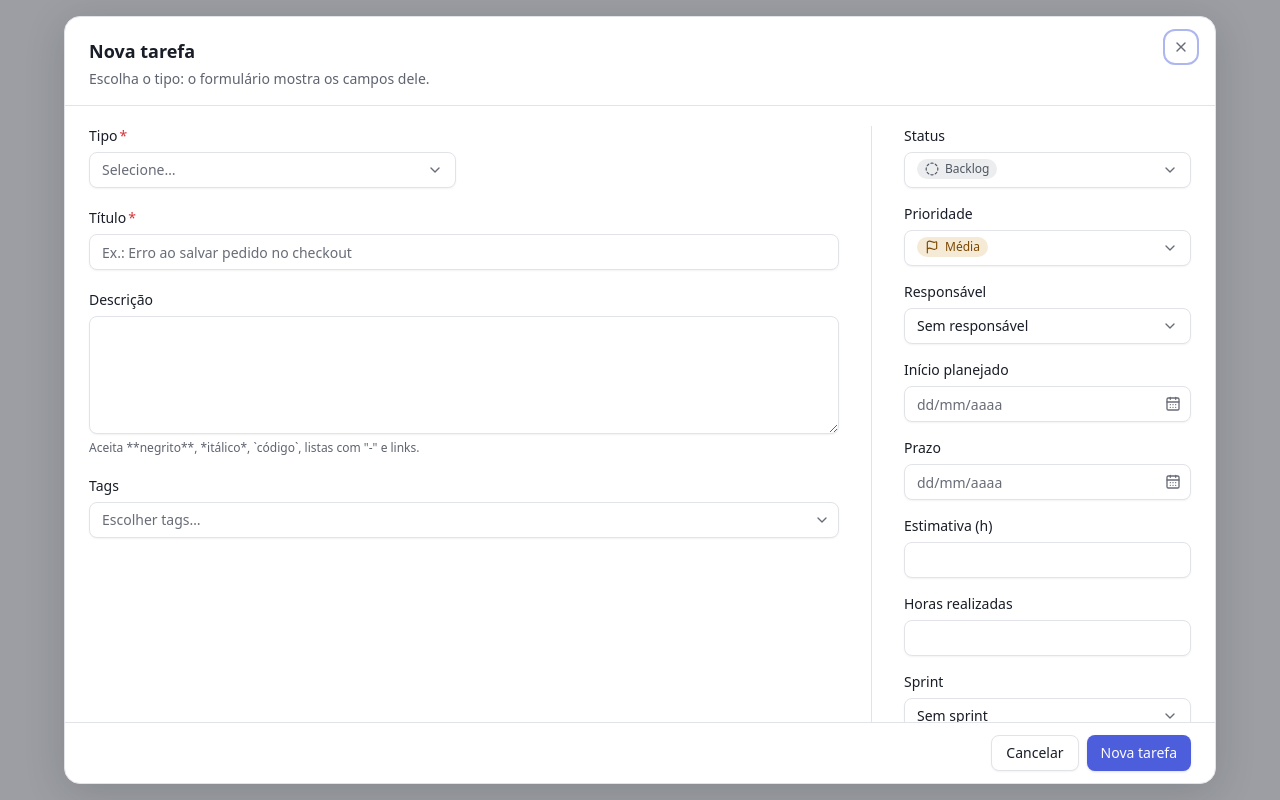
Scenario: TaskFormDialog › valida título e campos obrigatórios do tipo antes de enviar
Step 1. Click the dropdown named "Tipo" → (139, 170), box [89,152,456,188]
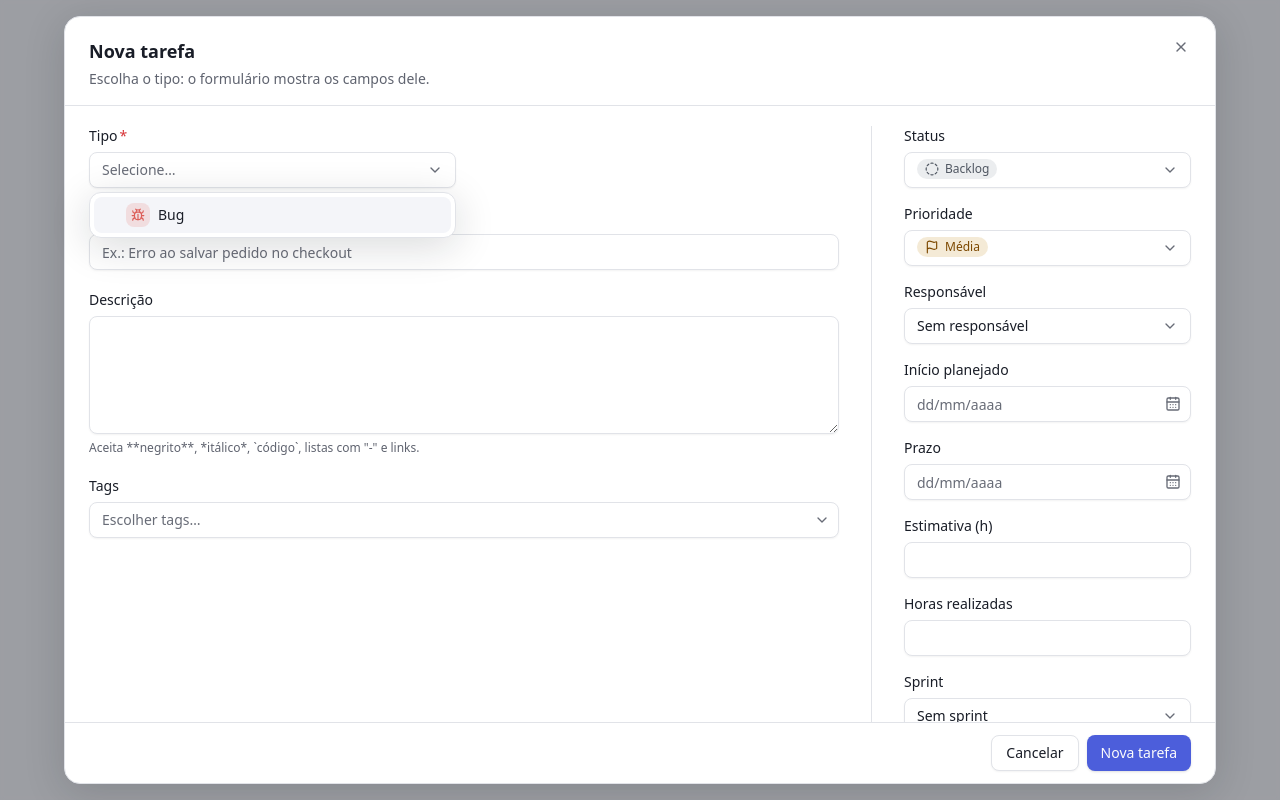
Step 2. Click the option "Bug" → (138, 215), box [94,197,451,233]
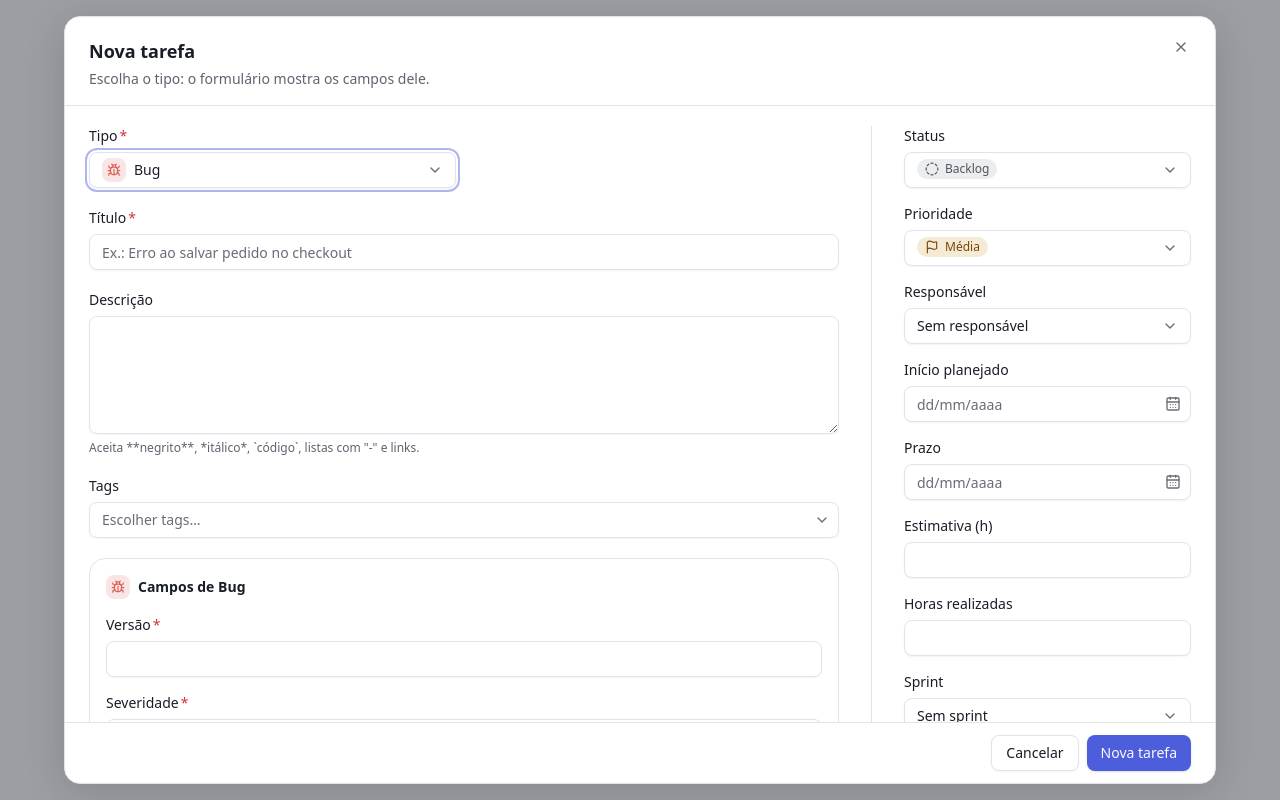
expect the field labelled "Versão*" is shown: met, box [106,641,822,677]
Step 3. Click the button "Nova tarefa" → (1139, 753), box [1087,735,1191,771]
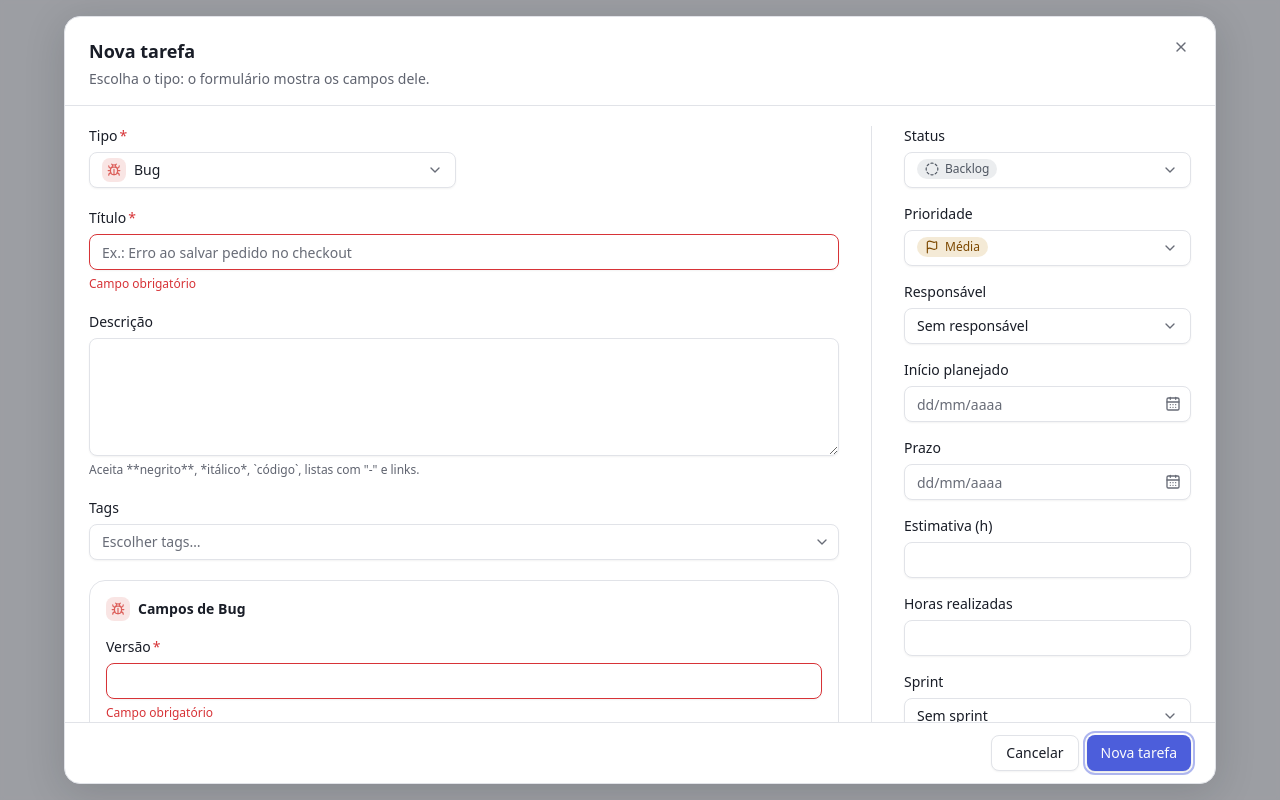
expect the text "Campo obrigatório" is shown 2 times: met, box [89,275,196,292]; [106,704,213,721]
